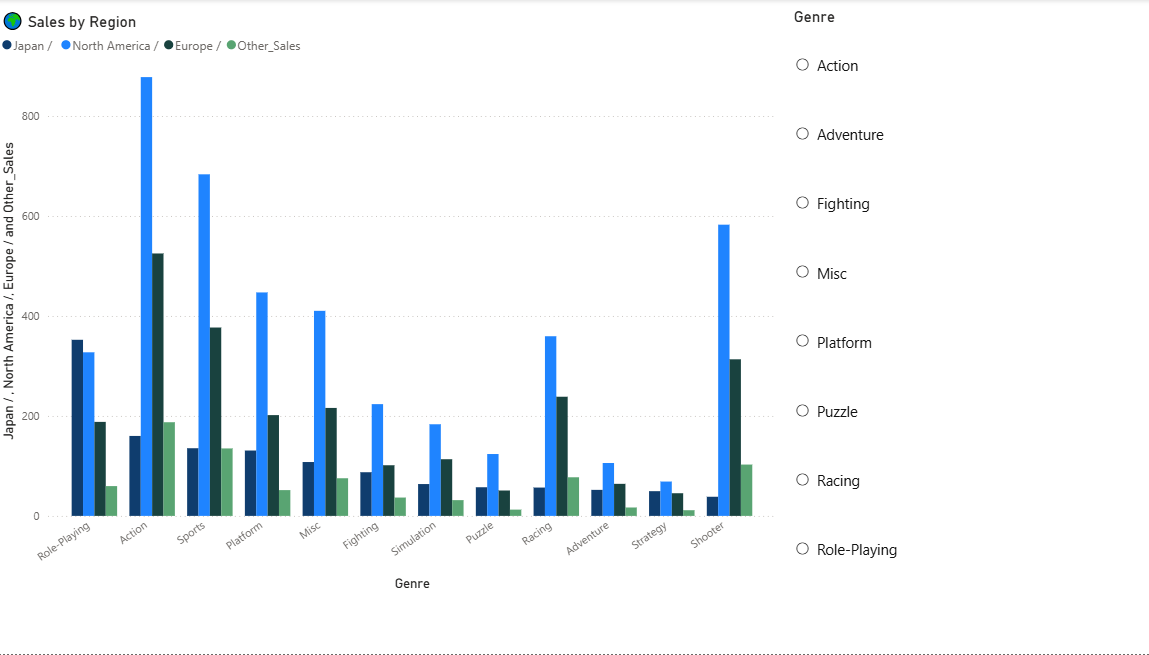

This screenshot's page, from the dashboard's own definition file:
{"tool":"powerbi","page":{"name":"🌍 Sales by Region","canvas":[1280,720],"ordinal":3},"visuals":[{"type":"clusteredColumnChart","title":"🌍 Sales by Region","fields":{"Y":["Sum(vgsales.JP_Sales)","Sum(vgsales.NA_Sales)","Sum(vgsales.EU_Sales)","Sum(vgsales.Other_Sales)"],"Category":["vgsales.Genre"]},"box":[0,10.5,860.5,644.2],"z":0},{"type":"listSlicer","fields":{"Values":["vgsales.Genre"]},"box":[870,10,410,644],"z":1}]}

Visuals, with their boxes in screenshot pixels (x1, y1, x2, y2), scaled from the page's 1280x720 canvas onto the 1149x655 screenshot:
"🌍 Sales by Region" clusteredColumnChart: 0:10:772:596
listSlicer - vgsales.Genre: 781:9:1148:595
